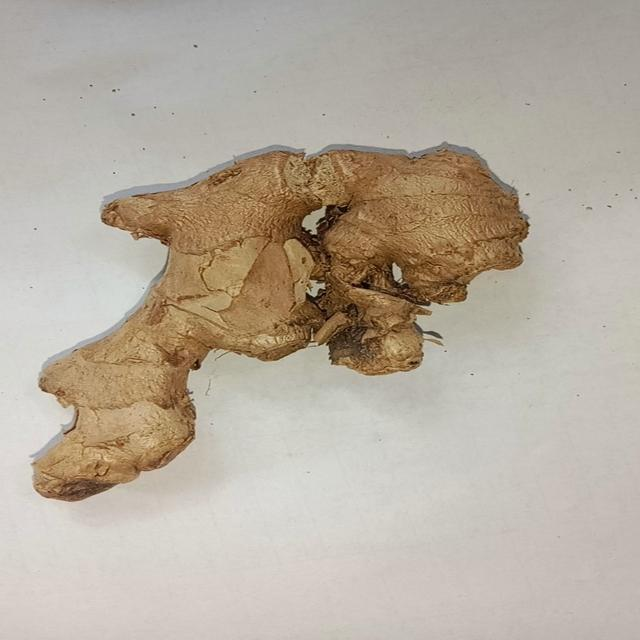ginger: (24, 148, 568, 507)
